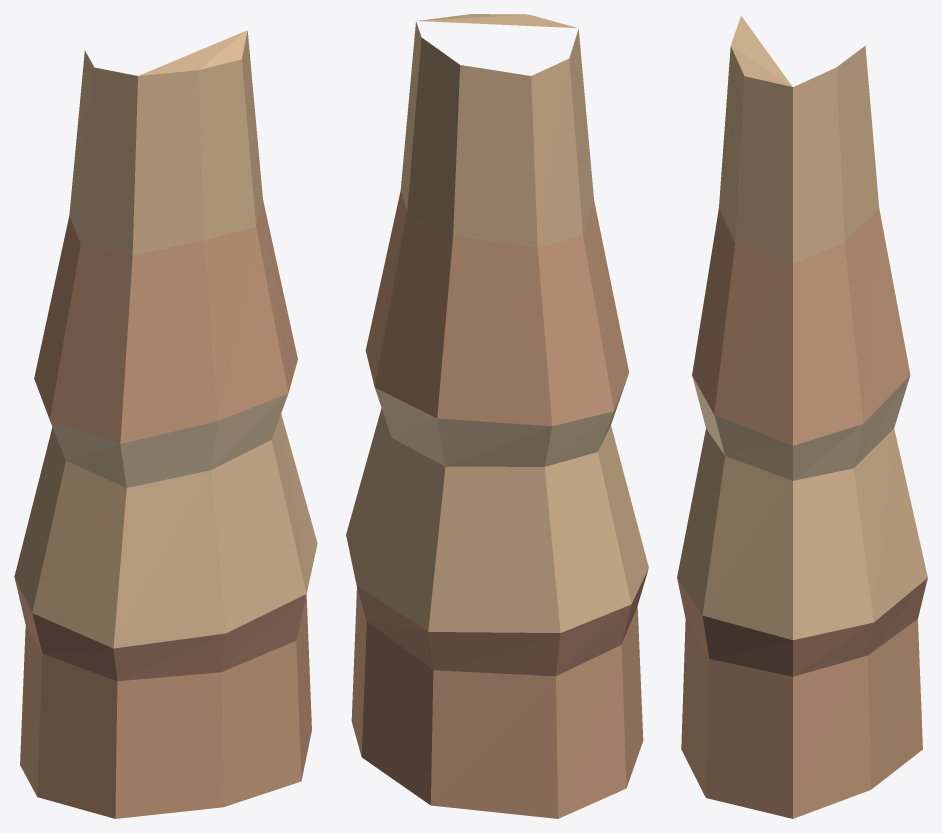
The picture shows the model from 3 angles, left to right: view 1: azimuth 30°, elevation 25°; view 2: azimuth 150°, elevation 25°; view 3: azimuth 270°, elevation 25°; orthographic projection. The views are drawn at different scales.
Size of the model in its own units: 19.44 by 47.39 by 15.12.
